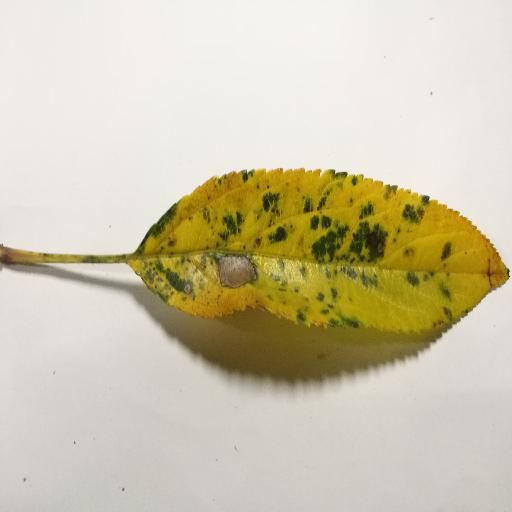Brown_Spot: (212, 248, 274, 289)
